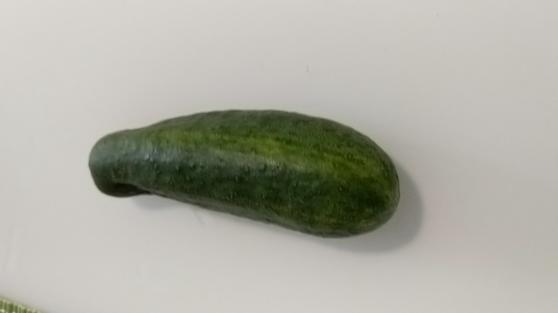cucumber: (83, 109, 400, 241)
